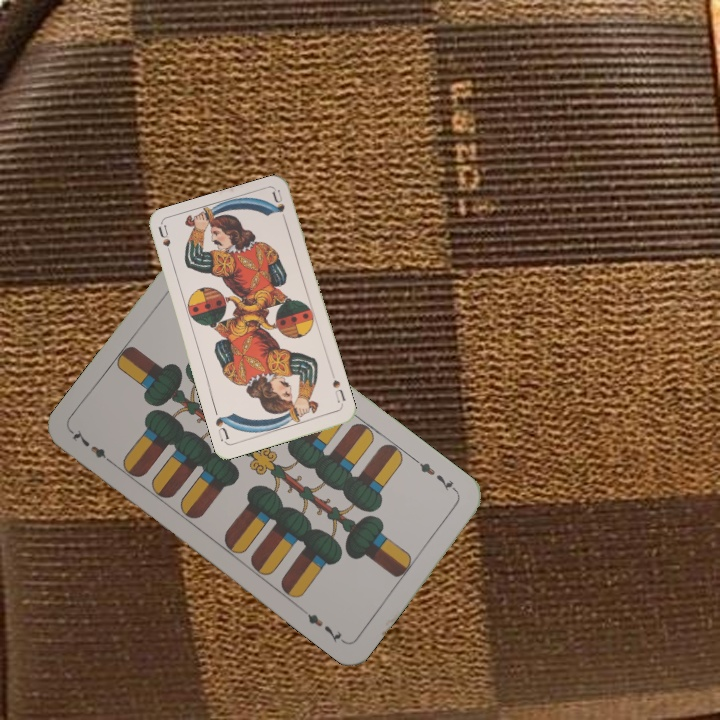E7: (67, 425, 118, 468), (411, 455, 461, 497)
SU: (155, 222, 176, 263), (328, 369, 348, 409)
